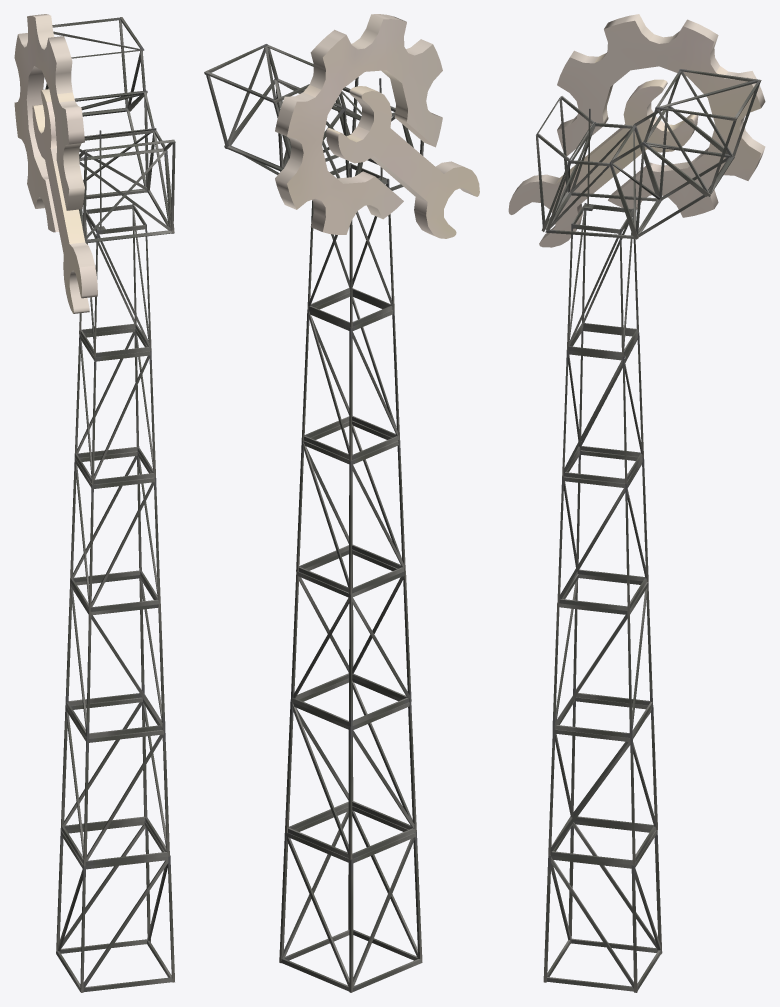
Rendered from Service Station.fbx.
3 views of the same model, side by side, from view 1: azimuth 30°, elevation 25°; view 2: azimuth 150°, elevation 25°; view 3: azimuth 270°, elevation 25° (orthographic). The views are drawn at different scales.
Visible parts, largest first — view 1: Service_station; view 2: Service_station; view 3: Service_station.
Part boxes in pixels (x1,y1,x2,y2): Service_station: [14, 14, 175, 992]; Service_station: [204, 14, 479, 992]; Service_station: [508, 14, 765, 992].
Bounding box in the file's own units: 390 × 2276 × 570.
